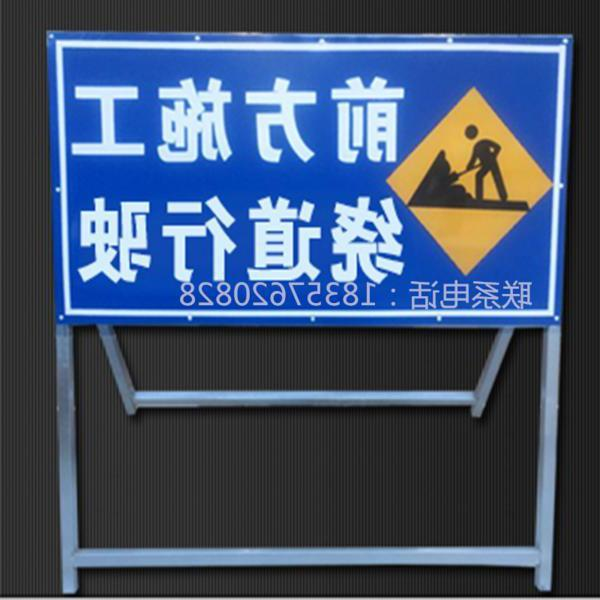sign: (48, 31, 575, 326)
